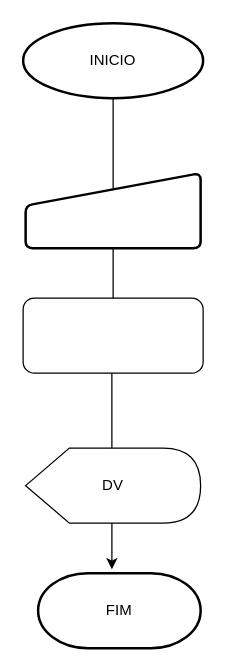
The diagram is 225 pixels wide and 670 high, and some of its shapes have lost their labels. Each missing label, with the centre of its shape:
DV= idade* 365: the point at 112,335
idade, 365: the point at 112,210
